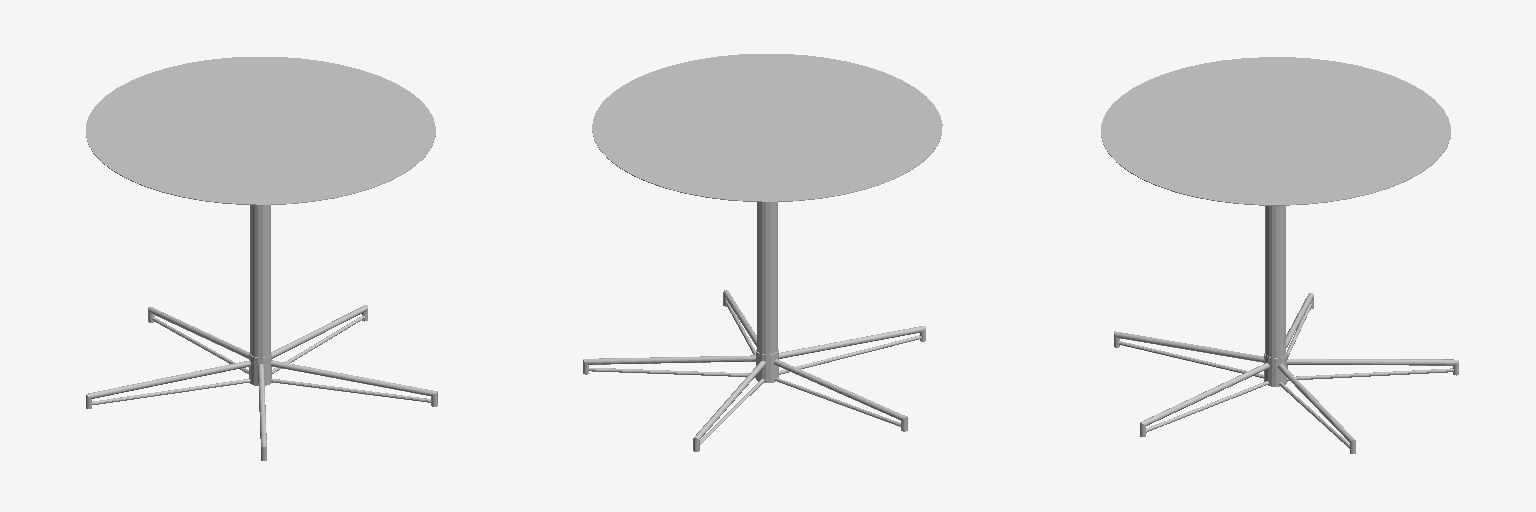
The model's file is scene1_table0.obj.
3 views of the same model, side by side, from view 1: azimuth 30°, elevation 25°; view 2: azimuth 150°, elevation 25°; view 3: azimuth 270°, elevation 25° (orthographic).
Visible parts, largest first — view 1: top, legs; view 2: top, legs; view 3: top, legs.
Part boxes in pixels (left/top/right/bottom): top: left=86, top=57, right=435, bottom=204; legs: left=86, top=205, right=437, bottom=460; top: left=592, top=54, right=942, bottom=201; legs: left=583, top=202, right=925, bottom=451; top: left=1101, top=57, right=1450, bottom=205; legs: left=1114, top=206, right=1458, bottom=453.
Bounding box in the file's own units: 91.52 × 71.5 × 92.02.